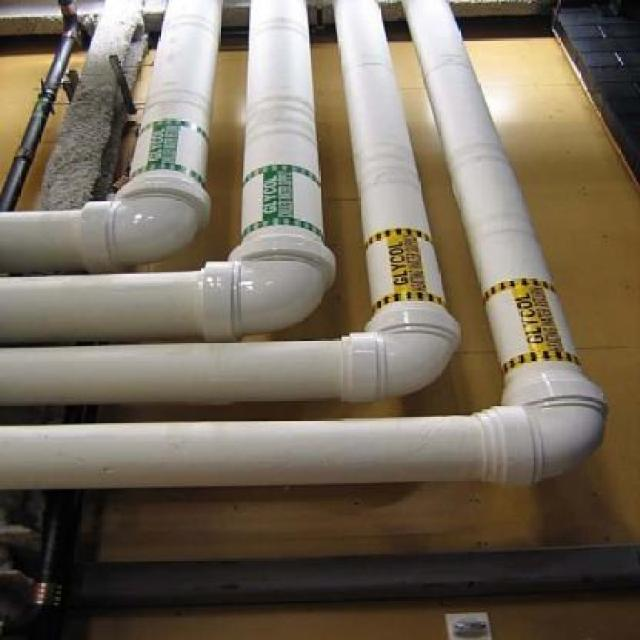gas: (400, 0, 623, 500), (0, 392, 635, 486), (338, 2, 462, 396), (96, 2, 221, 264), (0, 338, 475, 404), (245, 0, 342, 322), (0, 248, 335, 334), (0, 196, 202, 266)
